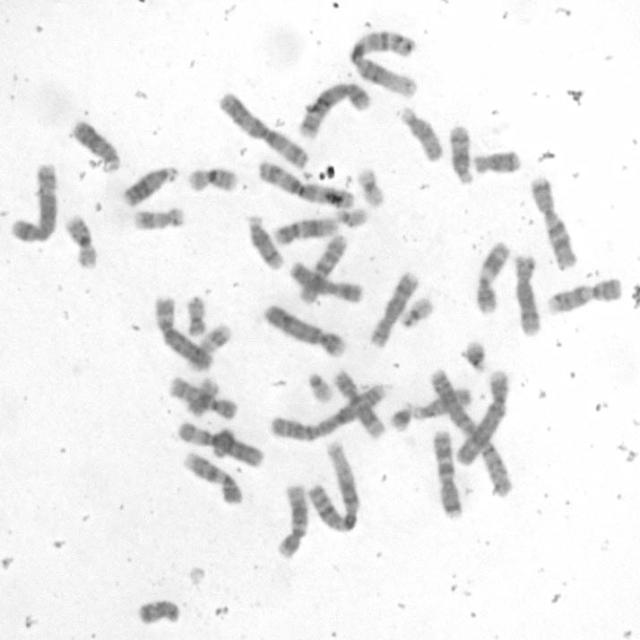A1: (304, 437, 363, 535), (346, 25, 421, 98)
A2: (427, 364, 512, 500), (267, 380, 389, 441)
A3: (214, 88, 311, 170), (255, 156, 358, 210)
B4: (452, 365, 510, 468), (260, 300, 349, 359)
B5: (295, 76, 373, 140), (7, 157, 60, 246)
C10: (296, 230, 348, 305), (167, 372, 238, 420)
C11: (330, 369, 387, 442), (471, 236, 511, 316)
C12: (274, 469, 316, 559), (272, 212, 340, 247)
C6: (150, 290, 214, 370), (175, 416, 265, 469)
C7: (527, 172, 579, 271), (429, 425, 466, 521)
C8: (366, 266, 419, 348), (510, 250, 544, 336)
C9: (179, 448, 244, 506), (542, 273, 625, 316)
D13: (67, 115, 123, 174), (120, 162, 179, 208)
D14: (243, 210, 285, 271), (445, 120, 476, 188)
D15: (396, 103, 445, 164), (408, 383, 473, 421)
E16: (62, 211, 100, 269), (185, 163, 239, 194)
E17: (185, 319, 233, 373), (130, 203, 186, 231)
E18: (133, 593, 183, 627), (468, 146, 522, 176)
F19: (352, 164, 388, 208), (400, 295, 433, 330)
F20: (184, 376, 220, 419), (182, 290, 209, 338)
G21: (457, 339, 492, 376), (385, 398, 415, 434)
G22: (302, 365, 335, 404), (333, 203, 371, 230)
X: (287, 258, 363, 304)
Y: (210, 426, 237, 460)
